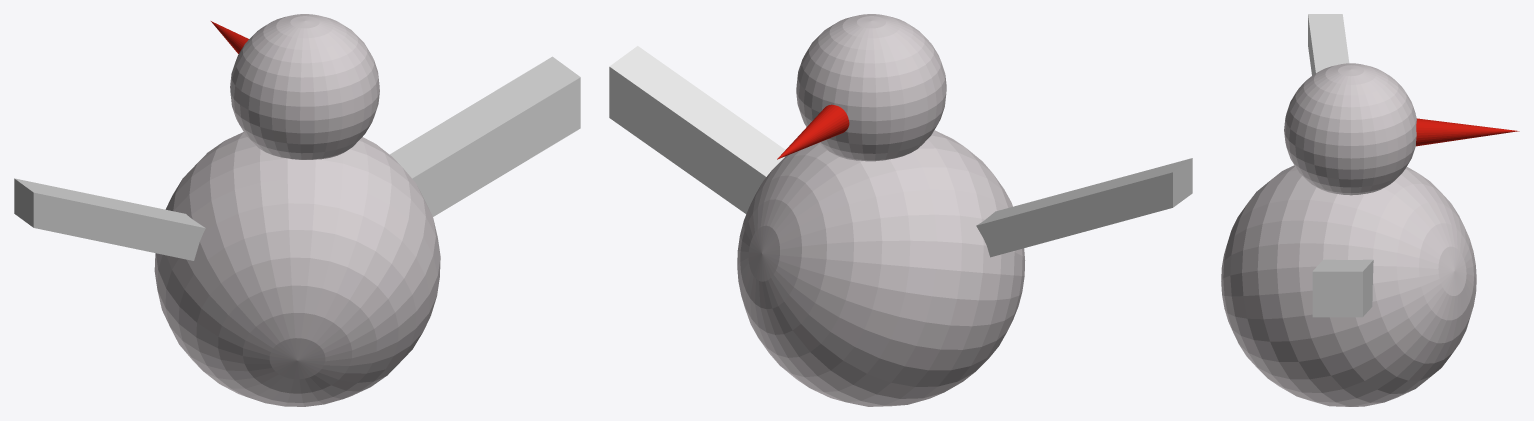
File: snowman.dae
The picture shows the model from 3 angles, left to right: view 1: azimuth 30°, elevation 25°; view 2: azimuth 150°, elevation 25°; view 3: azimuth 270°, elevation 25°; orthographic projection. The views are drawn at different scales.
Parts seen in each view (by area): view 1: 球, 球_001, 立方体, Cube; view 2: 球, 球_001, 立方体, Cube, 円錐; view 3: 球, 球_001, 立方体, Cube, 円錐.
Boxes of the visible parts, x1,y1,x2,y2 form: 球: [154, 132, 440, 406]; 球_001: [230, 14, 379, 159]; 立方体: [390, 56, 580, 216]; Cube: [14, 178, 205, 260]; 球: [737, 130, 1025, 406]; 球_001: [796, 14, 946, 161]; 立方体: [609, 46, 785, 213]; Cube: [976, 158, 1192, 257]; 円錐: [777, 104, 849, 159]; 球: [1221, 165, 1476, 406]; 球_001: [1284, 63, 1416, 195]; 立方体: [1312, 259, 1373, 317]; Cube: [1308, 14, 1349, 75]; 円錐: [1416, 118, 1519, 146].
Size of the model in its own units: 10.83 by 5.72 by 6.96.
